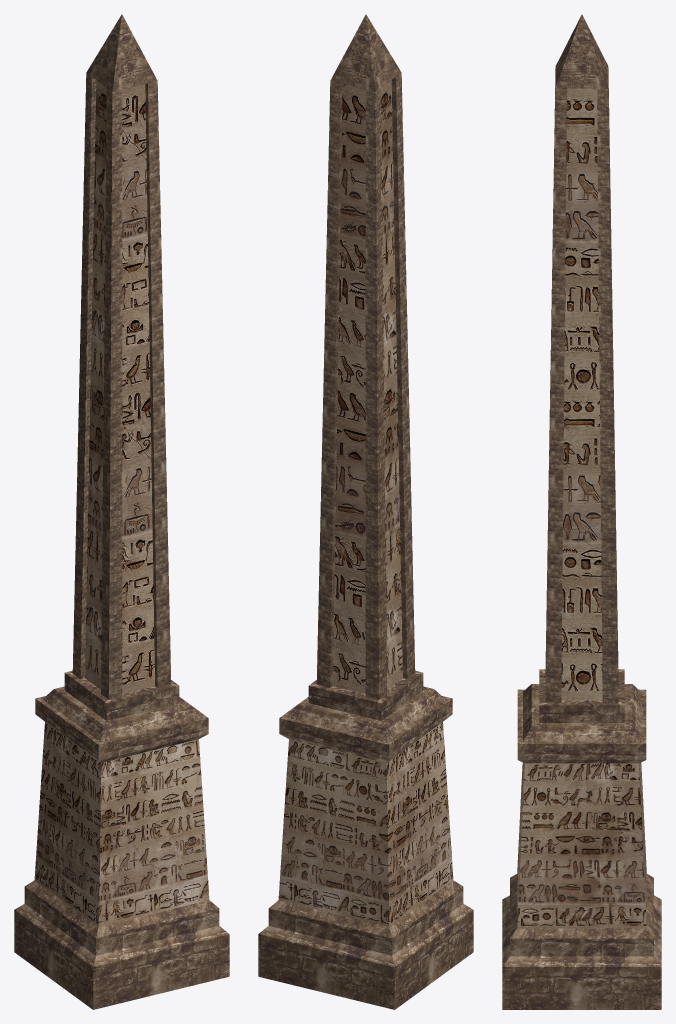
File: obelisk.FBX
The picture shows the model from 3 angles, left to right: view 1: azimuth 30°, elevation 25°; view 2: azimuth 150°, elevation 25°; view 3: azimuth 270°, elevation 25°; orthographic projection.
Visible parts, largest first — view 1: egypt_obelisk; view 2: egypt_obelisk; view 3: egypt_obelisk.
Part boxes in pixels (bbox=[...]): egypt_obelisk: bbox=[14, 14, 229, 1009]; egypt_obelisk: bbox=[258, 14, 473, 1009]; egypt_obelisk: bbox=[502, 14, 661, 1009].
Bounding box in the file's own units: 4207 × 28017 × 4207.
